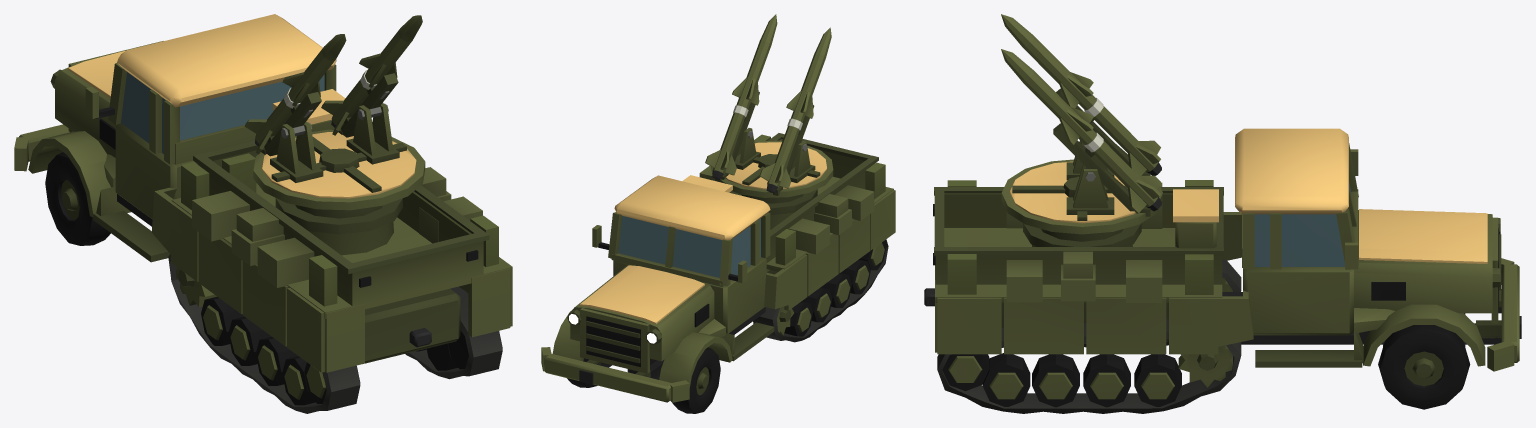
Rendered from missile_truck.glb.
3 views of the same model, side by side, from view 1: azimuth 30°, elevation 25°; view 2: azimuth 150°, elevation 25°; view 3: azimuth 270°, elevation 25° (orthographic). The views are drawn at different scales.
Visible parts, largest first — view 1: Body, Launcher, Wheel_FL; view 2: Body, Launcher, Wheel_FL; view 3: Body, Launcher, Wheel_FR.
Boxes of the visible parts, box(x1,y1,x2,y2) form: Body: box(14, 14, 512, 413); Launcher: box(244, 15, 425, 218); Wheel_FL: box(45, 152, 110, 245); Body: box(541, 133, 895, 402); Launcher: box(705, 14, 833, 203); Wheel_FL: box(672, 347, 720, 413); Body: box(924, 128, 1521, 413); Launcher: box(1001, 14, 1162, 241); Wheel_FR: box(1378, 325, 1470, 409).
Size of the model in its own units: 0.6762 by 1.13 by 1.78.
